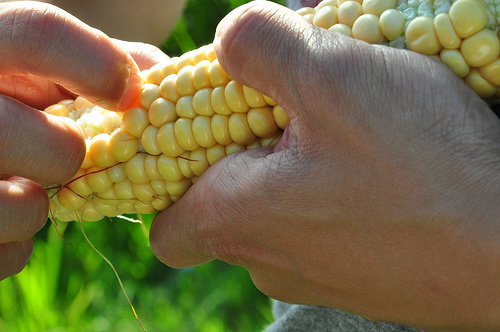corn: (46, 0, 499, 225)
